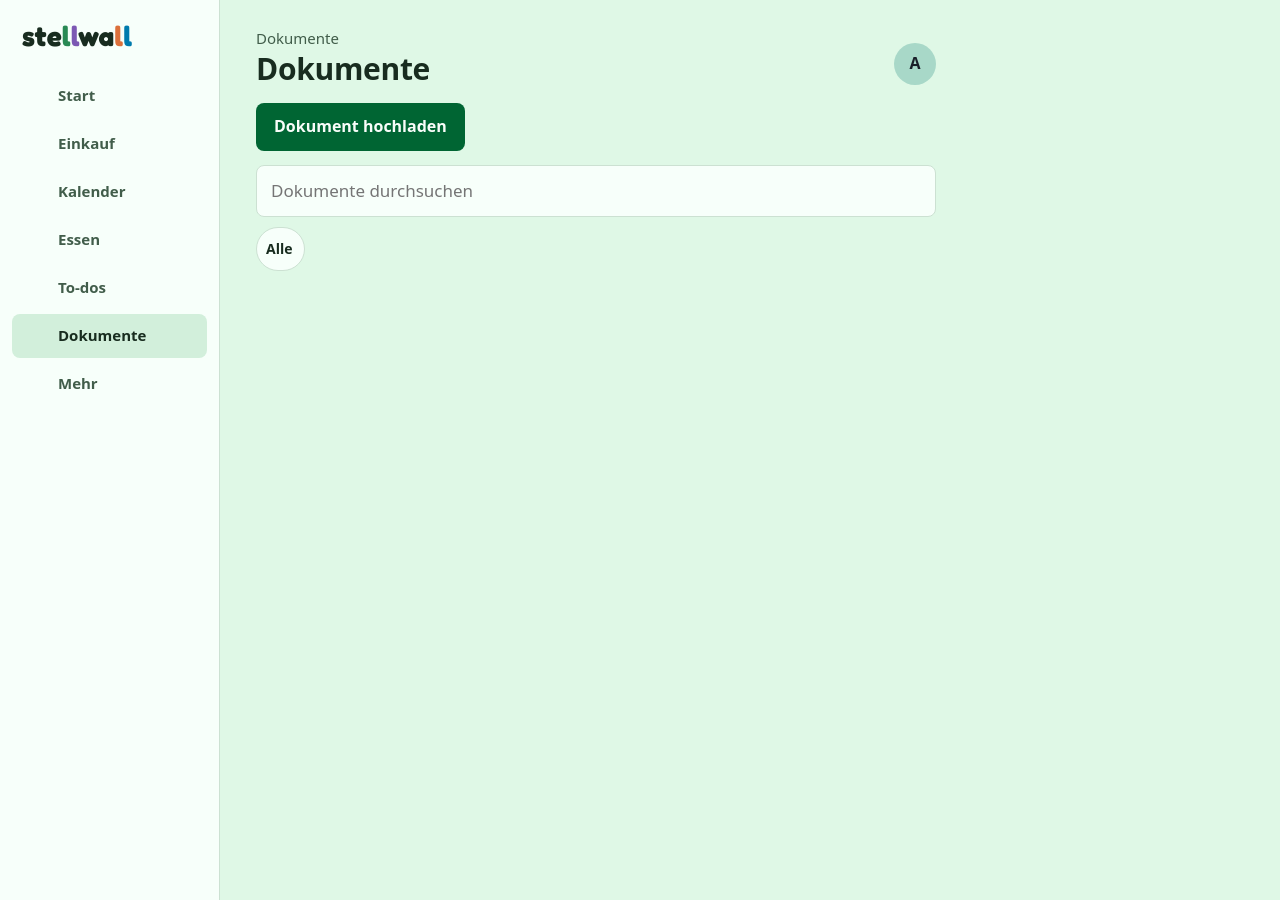
Test: documents › choosing who may see it keeps the upload dialog open
Click the button "Dokument hochladen": (360, 127) [256, 103, 465, 151]
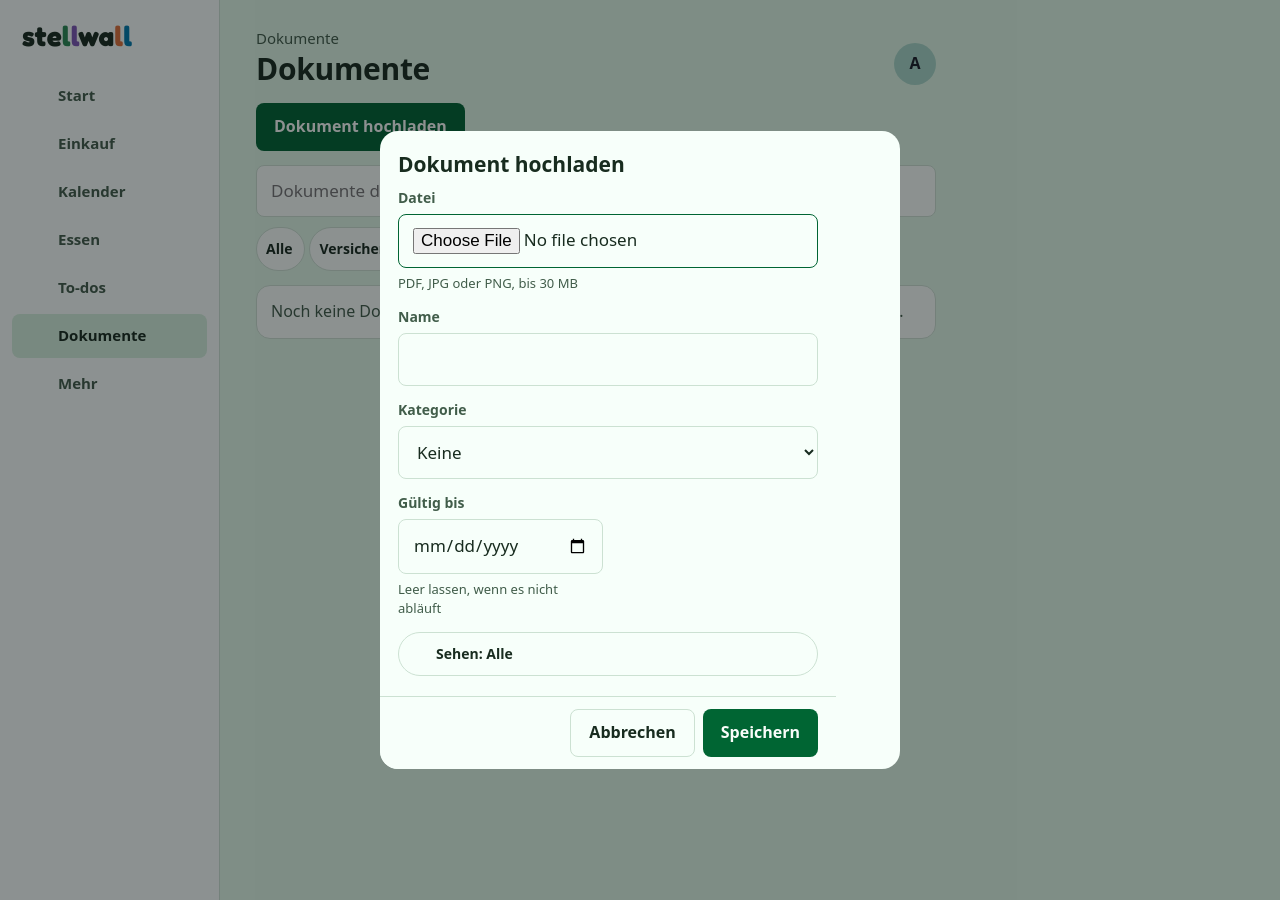
Click the button "Sehen: Alle": (474, 653) [398, 632, 818, 676]
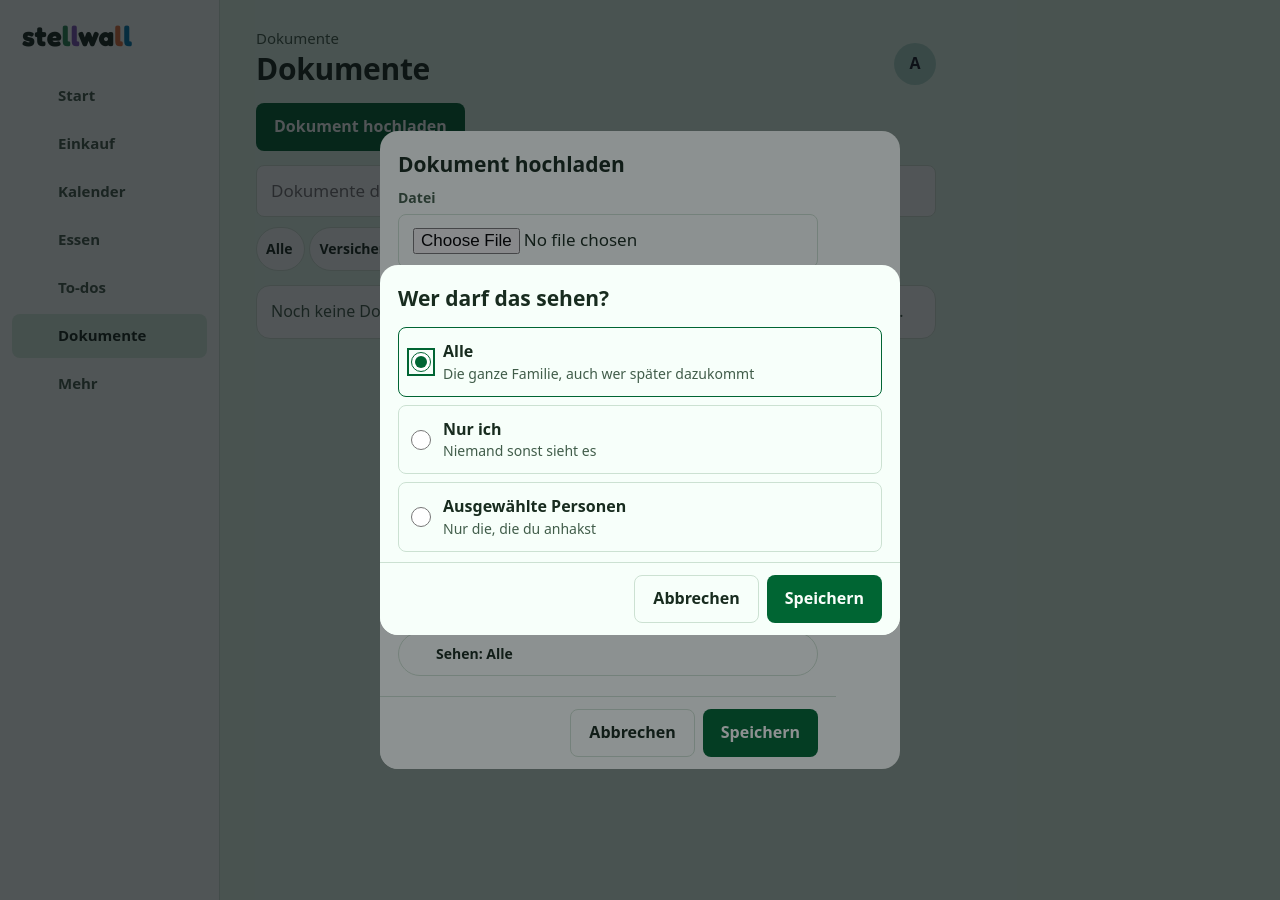
Click the radio button labelled "Nur ich Niemand sonst sieht es": (421, 440) [411, 430, 431, 450]
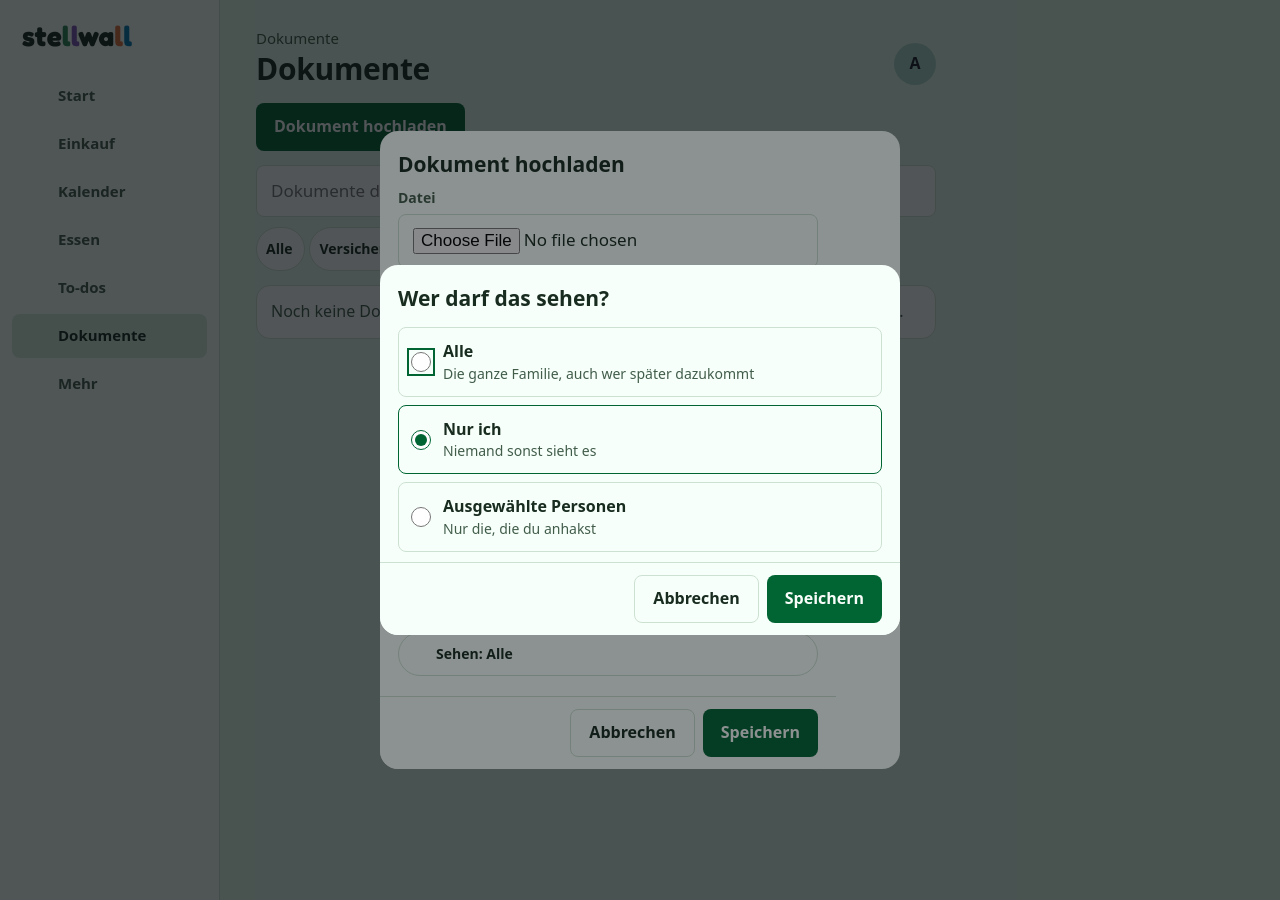
Click the button "Speichern": (824, 599) [767, 575, 882, 623]
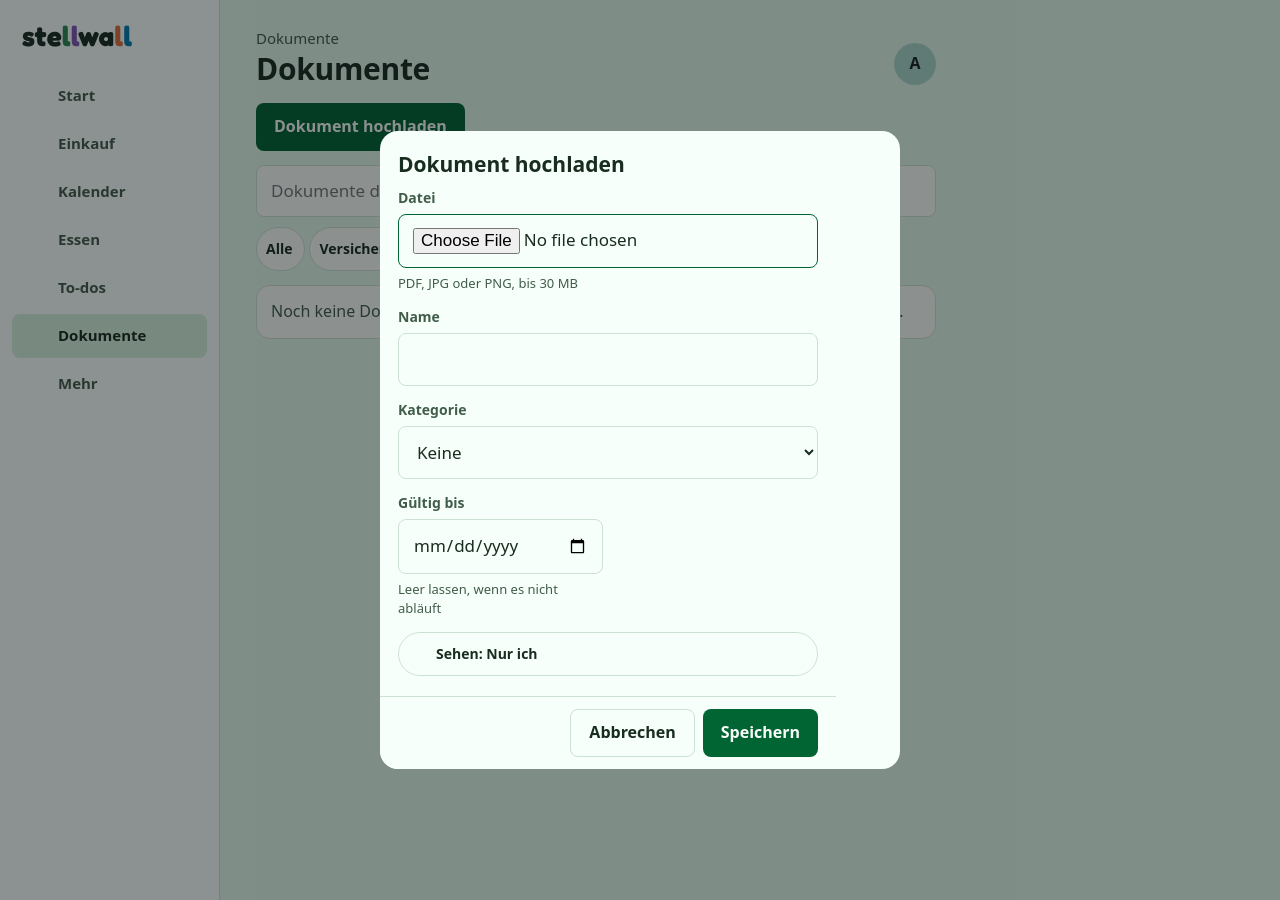
expect the dialog "Dokument hochladen" is shown: met, box [380, 131, 900, 769]
expect the button "Sehen: Nur ich" is shown: met, box [398, 632, 818, 676]
